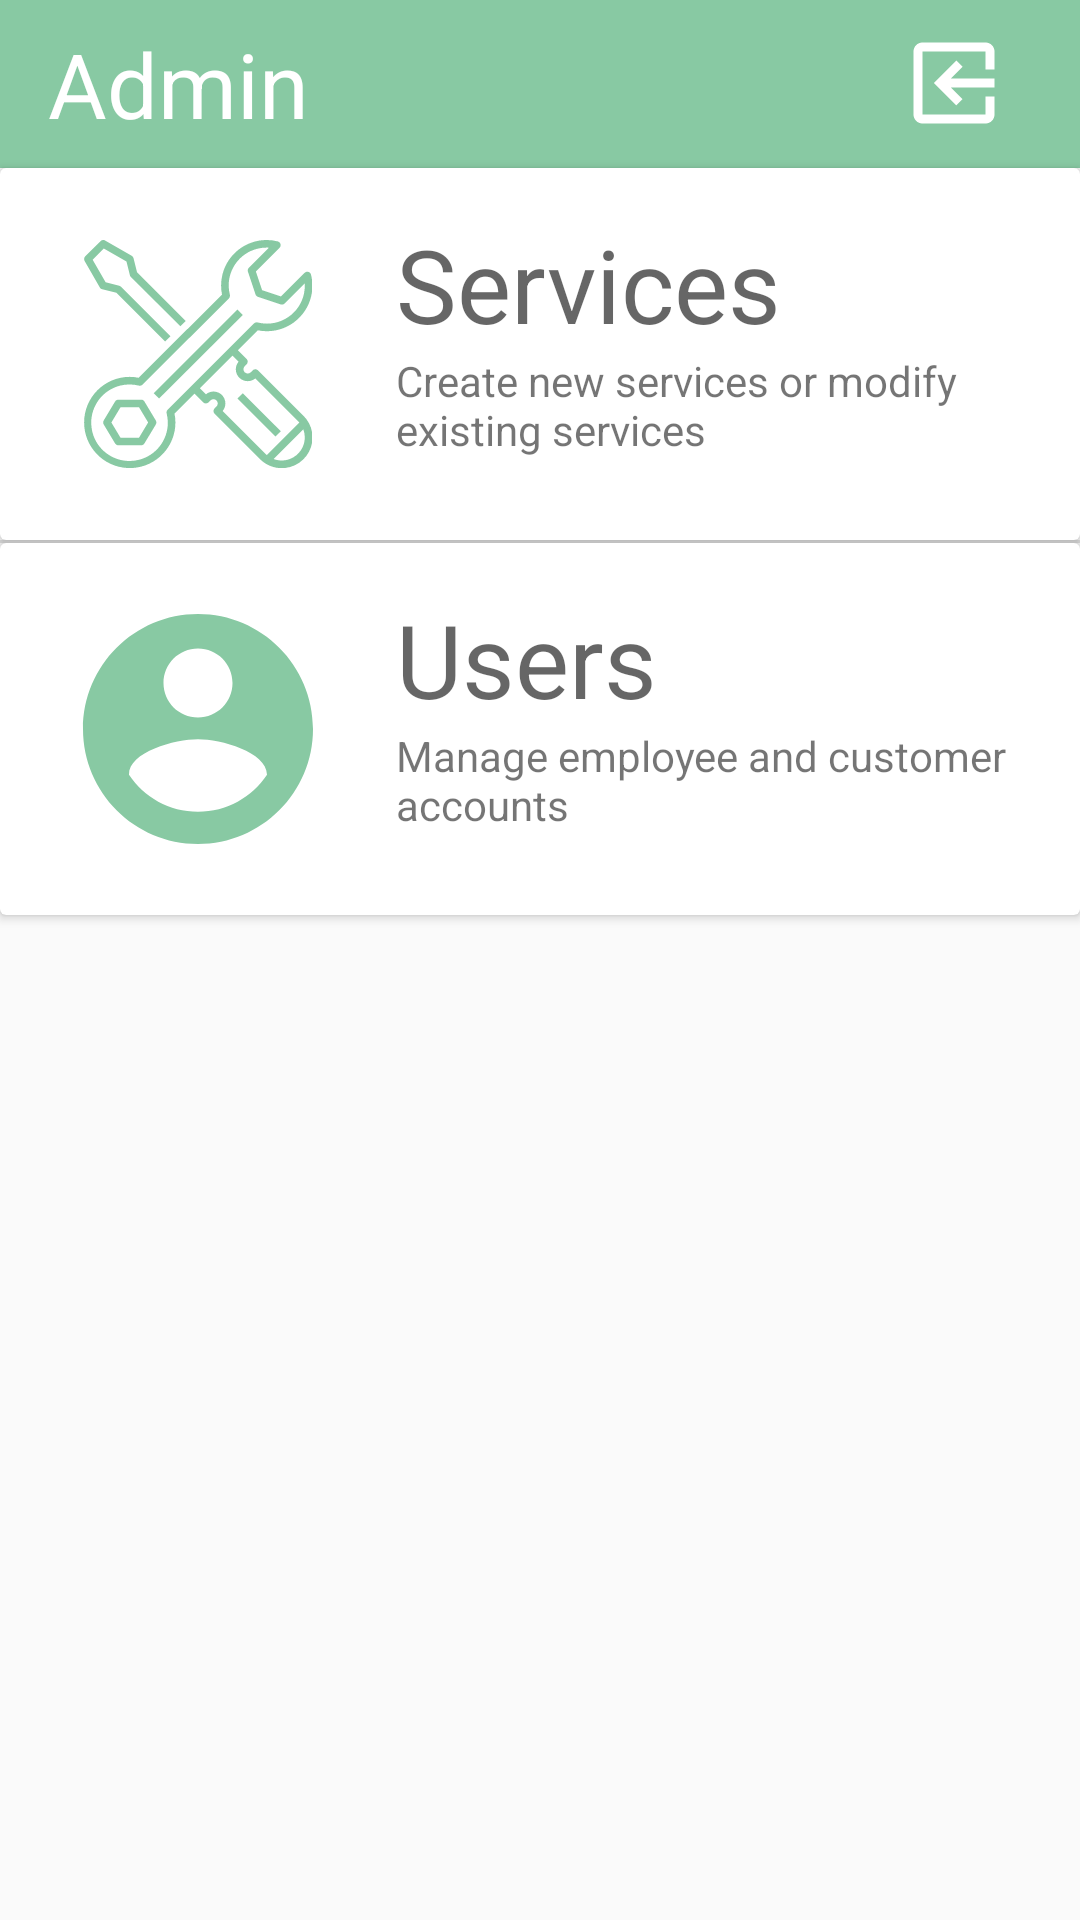

Named icons in this screenshot (1080*1920) and their centers, (x,y):
account circle: (198,729)
exit to app: (954,83)
